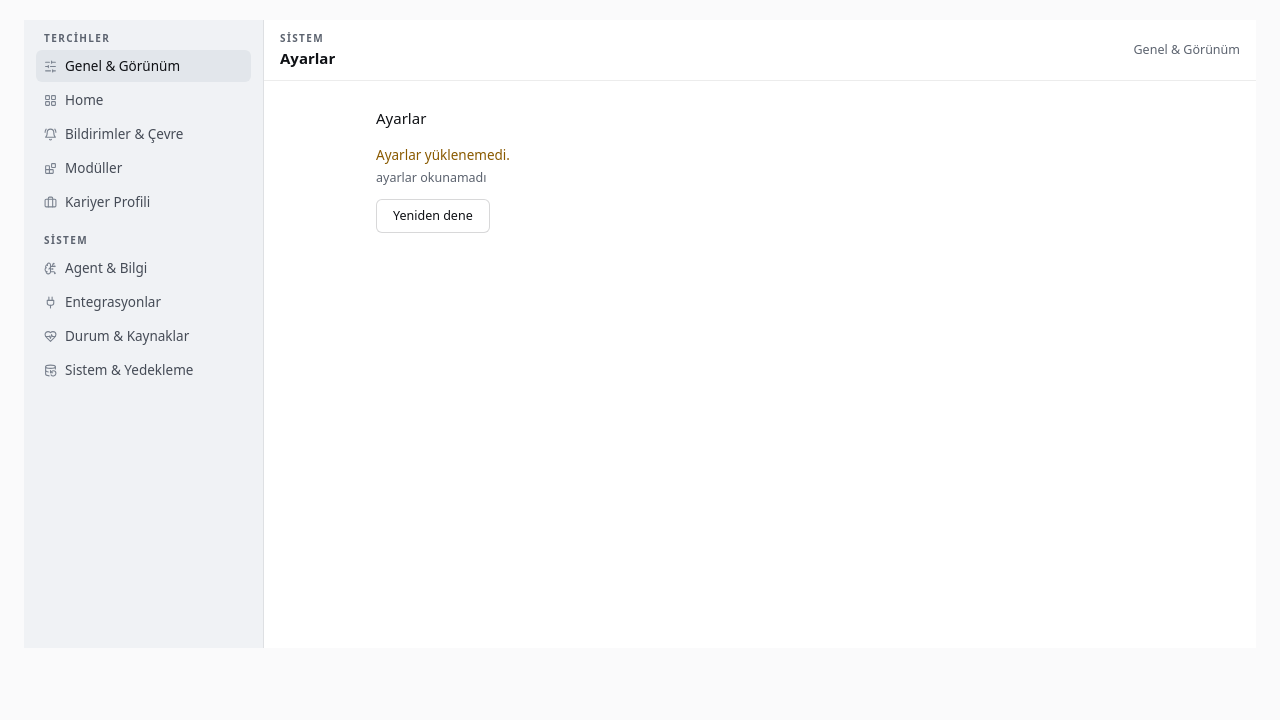
Test: SettingsPage teshis ve tehlikeli bolge › Ayarlar istegi dustugunde sayfa cokmez; hata ve yeniden dene sunar
The image size is (1280, 720).
Check: the 1st heading "Ayarlar" is shown, box x1=280 y1=48 x2=335 y2=68
Check: the text "Ayarlar yüklenemedi." is shown, box x1=376 y1=146 x2=510 y2=164
Click the button "Yeniden dene". click: (433, 216)
box: x1=376 y1=199 x2=490 y2=233
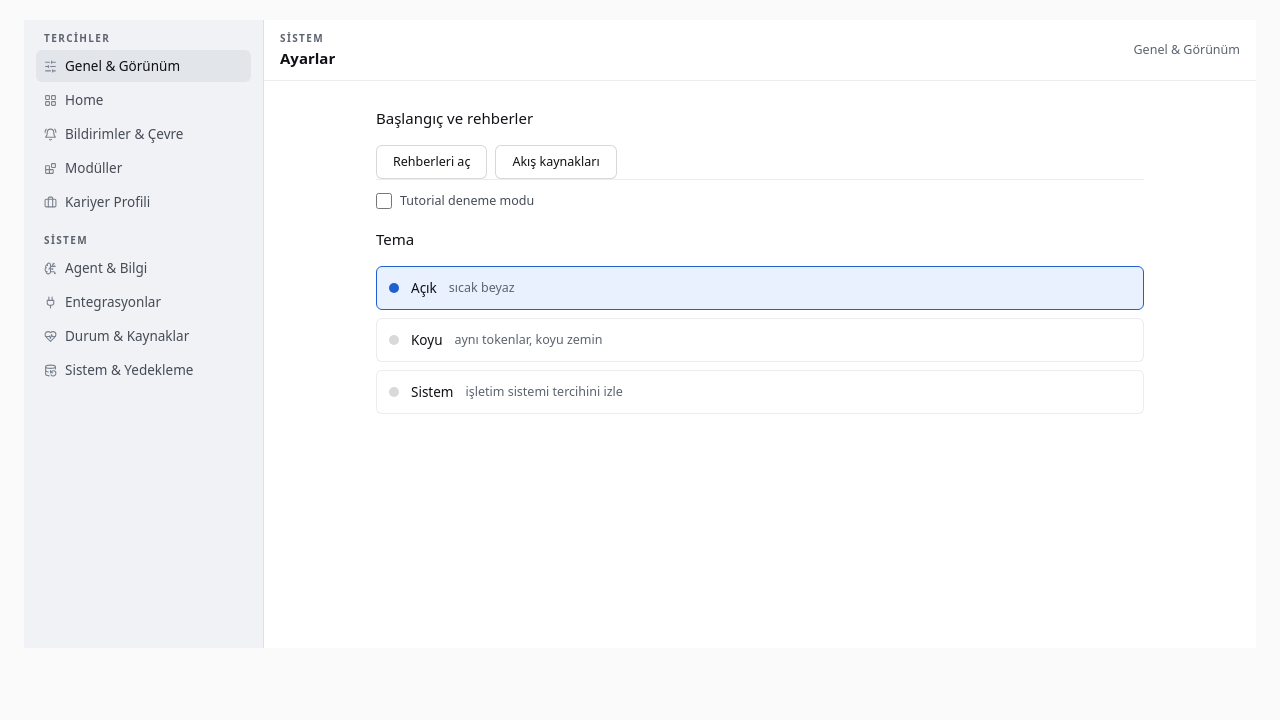
Check: the heading "Tema" is shown, box x1=376 y1=229 x2=414 y2=249
